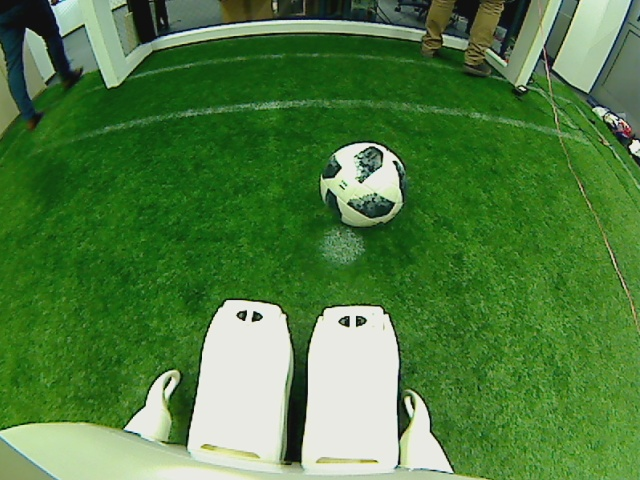ball: (319, 137, 409, 230)
